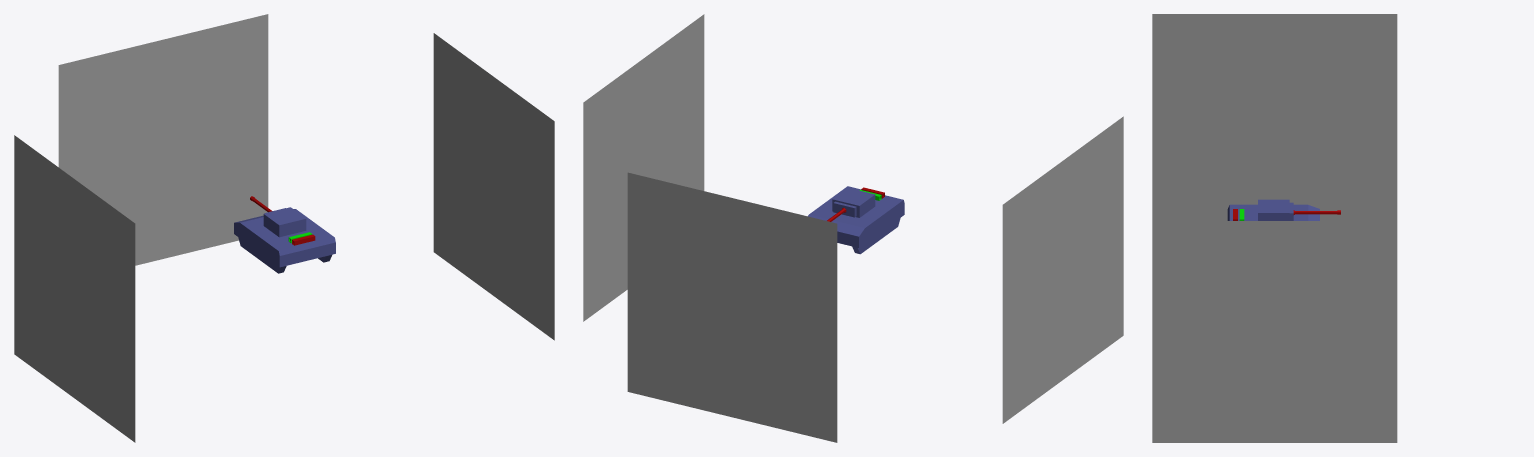
The picture shows the model from 3 angles, left to right: view 1: azimuth 30°, elevation 25°; view 2: azimuth 150°, elevation 25°; view 3: azimuth 270°, elevation 25°; orthographic projection.
Parts seen in each view (by area): view 1: pPlane2, pPlane1, pPlane3, BaseTanke, BaseCanon; view 2: pPlane2, pPlane3, pPlane1, BaseTanke, BaseCanon; view 3: pPlane1, pPlane3, BaseCanon, BaseTanke.
Part boxes in pixels (bbox=[...]): pPlane2: bbox=[58, 14, 268, 265]; pPlane1: bbox=[433, 33, 554, 340]; pPlane3: bbox=[14, 135, 135, 442]; BaseTanke: bbox=[234, 209, 335, 273]; BaseCanon: bbox=[263, 207, 306, 237]; pPlane2: bbox=[627, 172, 837, 442]; pPlane3: bbox=[1002, 116, 1123, 423]; pPlane1: bbox=[583, 14, 704, 321]; BaseTanke: bbox=[808, 186, 904, 254]; BaseCanon: bbox=[832, 188, 875, 217]; pPlane1: bbox=[1152, 221, 1397, 442]; pPlane3: bbox=[1152, 14, 1397, 220]; BaseCanon: bbox=[1258, 199, 1293, 220]; BaseTanke: bbox=[1227, 204, 1319, 220].
Bounding box in the file's own units: 20 × 10 × 15.
